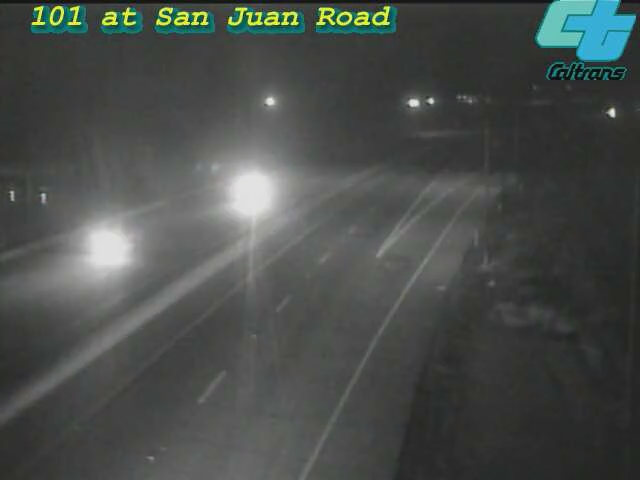vehicle: (64, 203, 144, 283), (203, 156, 283, 236), (586, 88, 636, 138)
